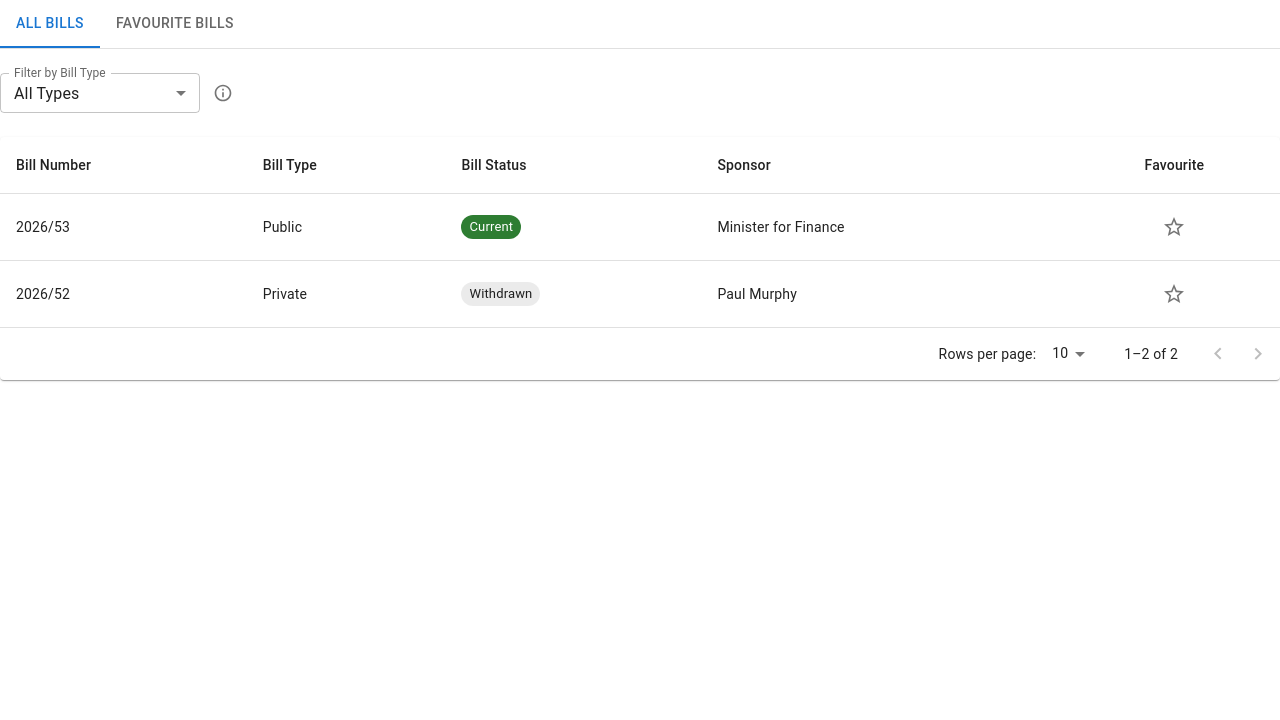
Test: BillsPage › opens modal when bill row is clicked
Click the text "2026/53": (123, 227) left=0, top=194, right=247, bottom=260
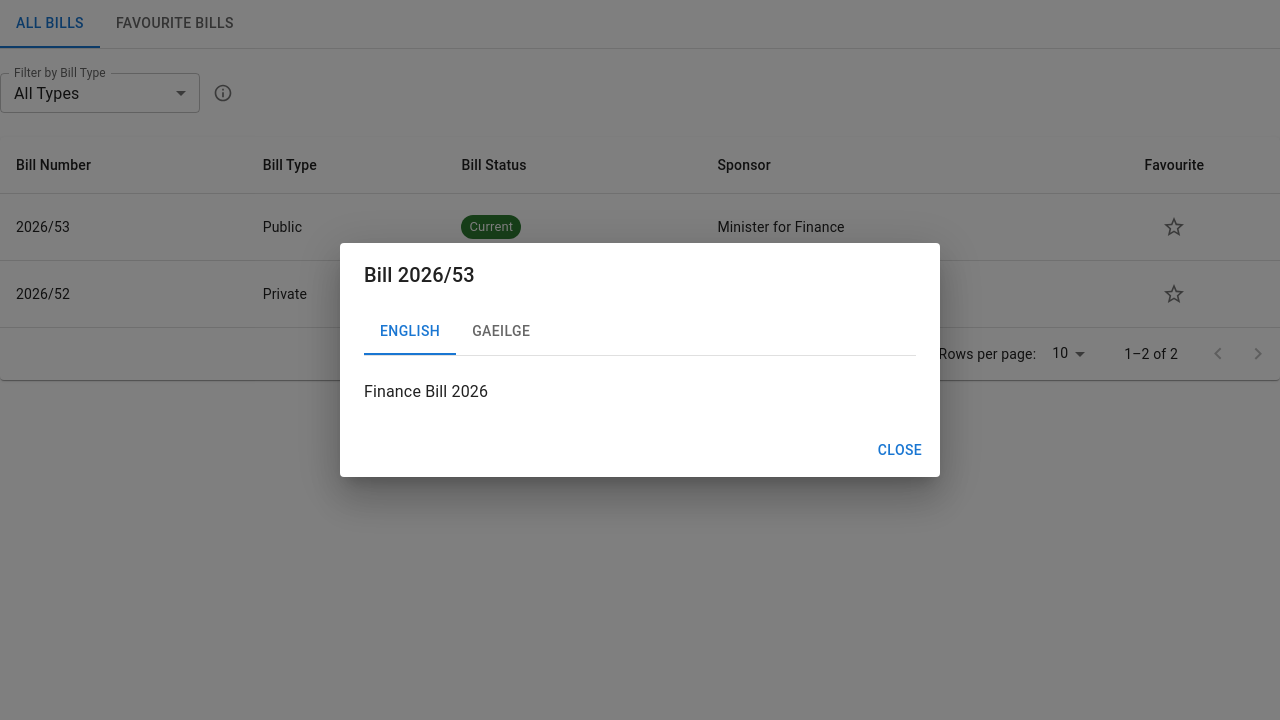
Result: the dialog is shown at left=340, top=243, right=940, bottom=477
Result: the heading "Bill 2026/53" is shown at left=364, top=263, right=475, bottom=287
